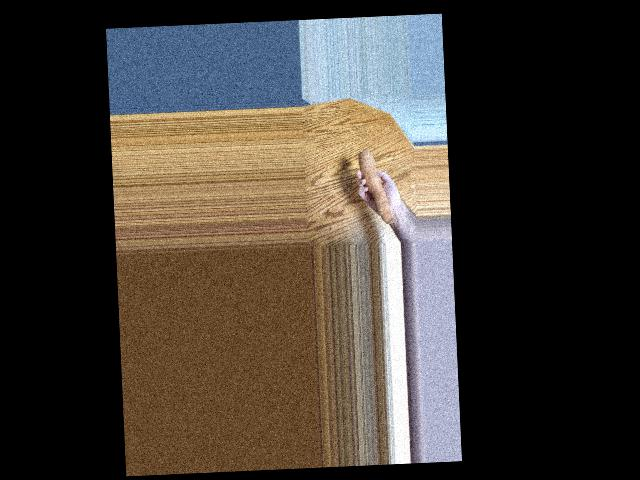sweet_potato: (353, 137, 389, 216)
